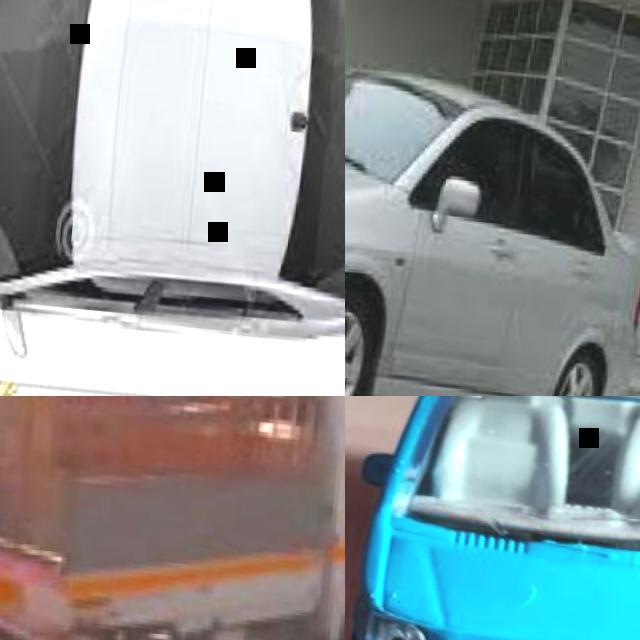car: (0, 60, 633, 388), (351, 392, 639, 639)
